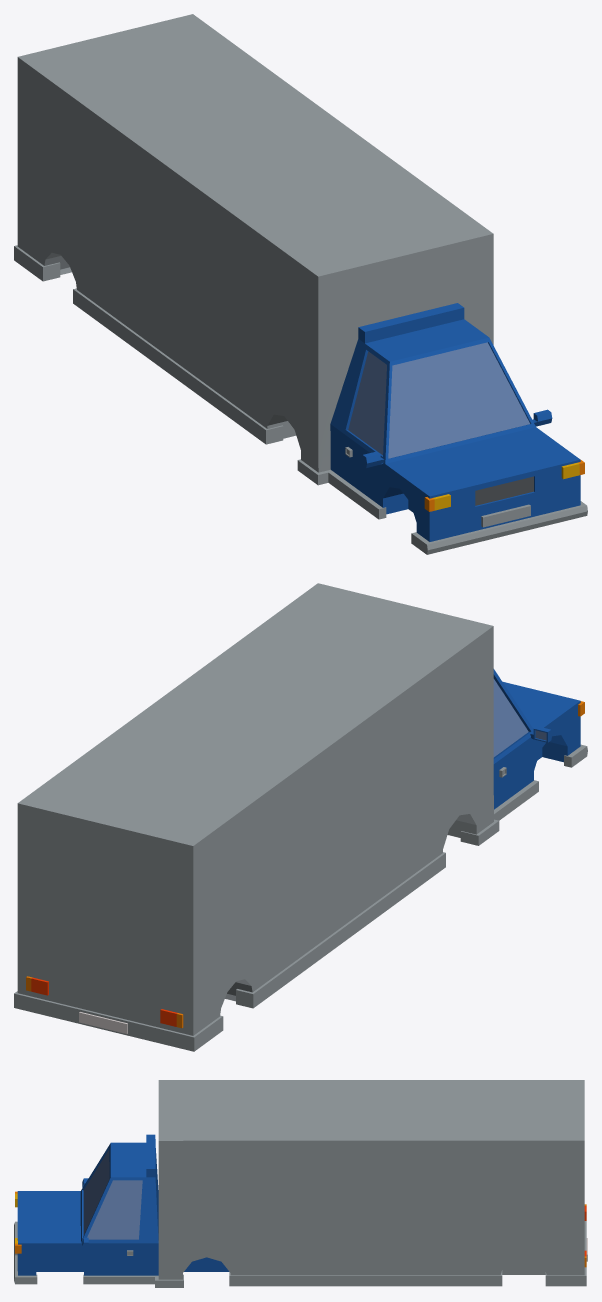
File: Car_14.fbx
3 renders of one model, top to bottom at view 1: azimuth 30°, elevation 25°; view 2: azimuth 150°, elevation 25°; view 3: azimuth 270°, elevation 25°, orthographic. The views are drawn at different scales.
Visible parts, largest first — view 1: Car_14; view 2: Car_14; view 3: Car_14.
Part boxes in pixels (x1,y1,x2,y2): Car_14: (14,14,587,554); Car_14: (14,583,587,1051); Car_14: (14,1080,587,1287).
Size of the model in its own units: 4.02 by 4.28 by 15.23.
